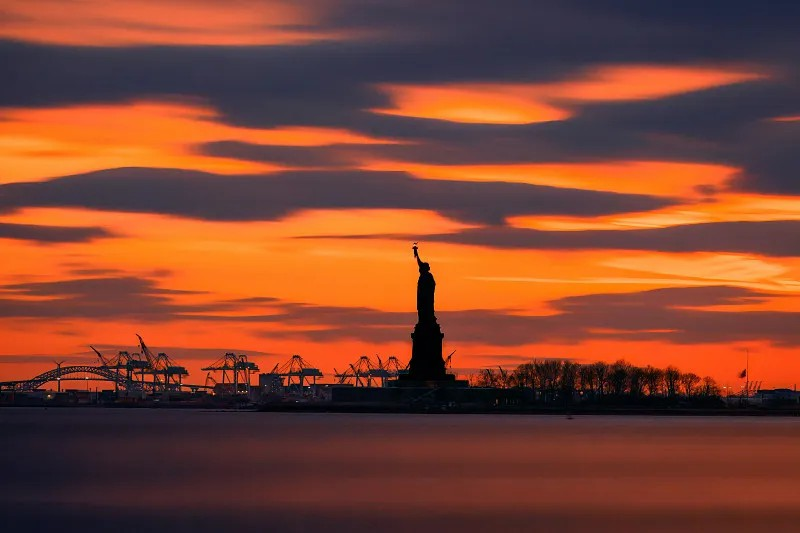SL: (408, 240, 446, 374)
